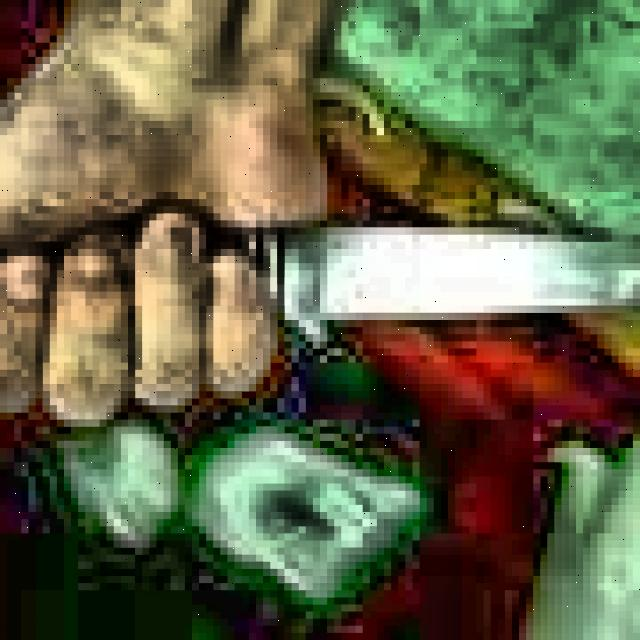knife: (213, 228, 640, 342)
